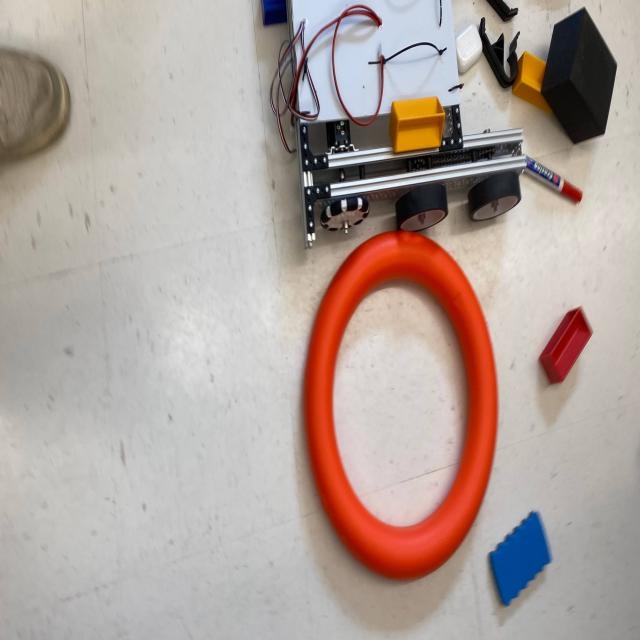blue-specimen: (262, 0, 287, 25)
red-specimen: (539, 307, 592, 383)
yellow-specimen: (389, 97, 445, 154), (512, 52, 552, 114)
